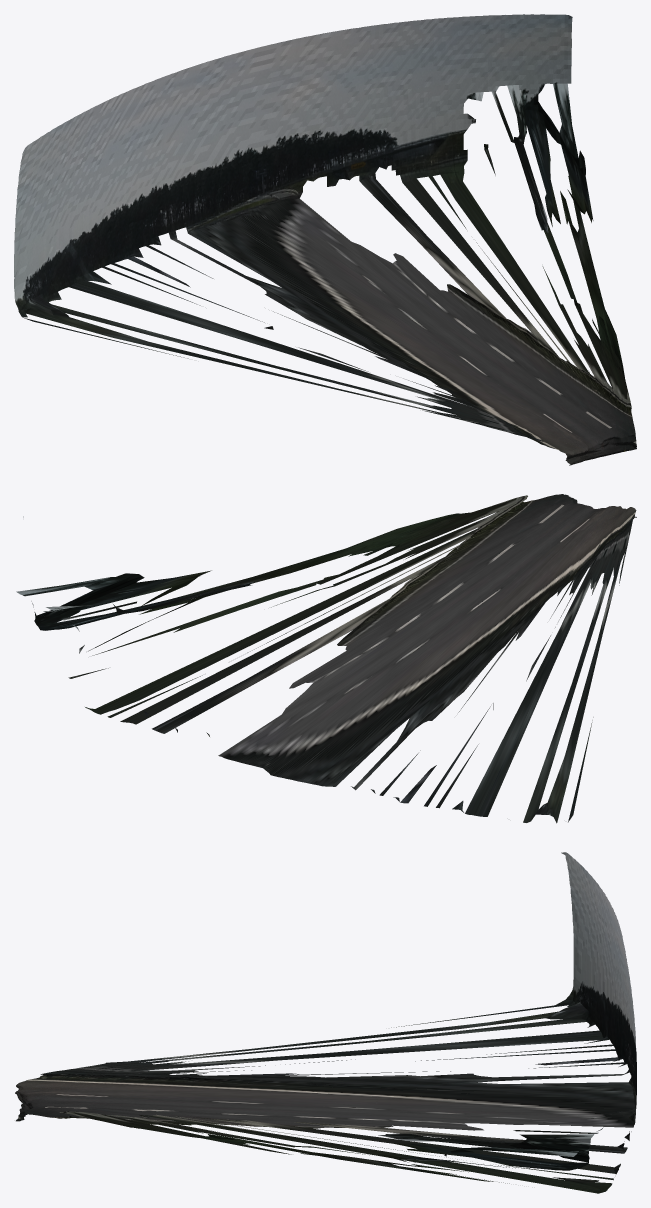
3 views of the same model, one above another, from view 1: azimuth 30°, elevation 25°; view 2: azimuth 150°, elevation 25°; view 3: azimuth 270°, elevation 25° (orthographic). The views are drawn at different scales.
Parts seen in each view (by area): view 1: defaultobject; view 2: defaultobject; view 3: defaultobject.
Part boxes in pixels (x1=…): defaultobject: x1=14, y1=14, x2=636, y2=465; defaultobject: x1=16, y1=494, x2=636, y2=823; defaultobject: x1=15, y1=852, x2=636, y2=1193.
Bounding box in the file's own units: 41.09 × 12.97 × 44.37.
1 material, 1 textured.
